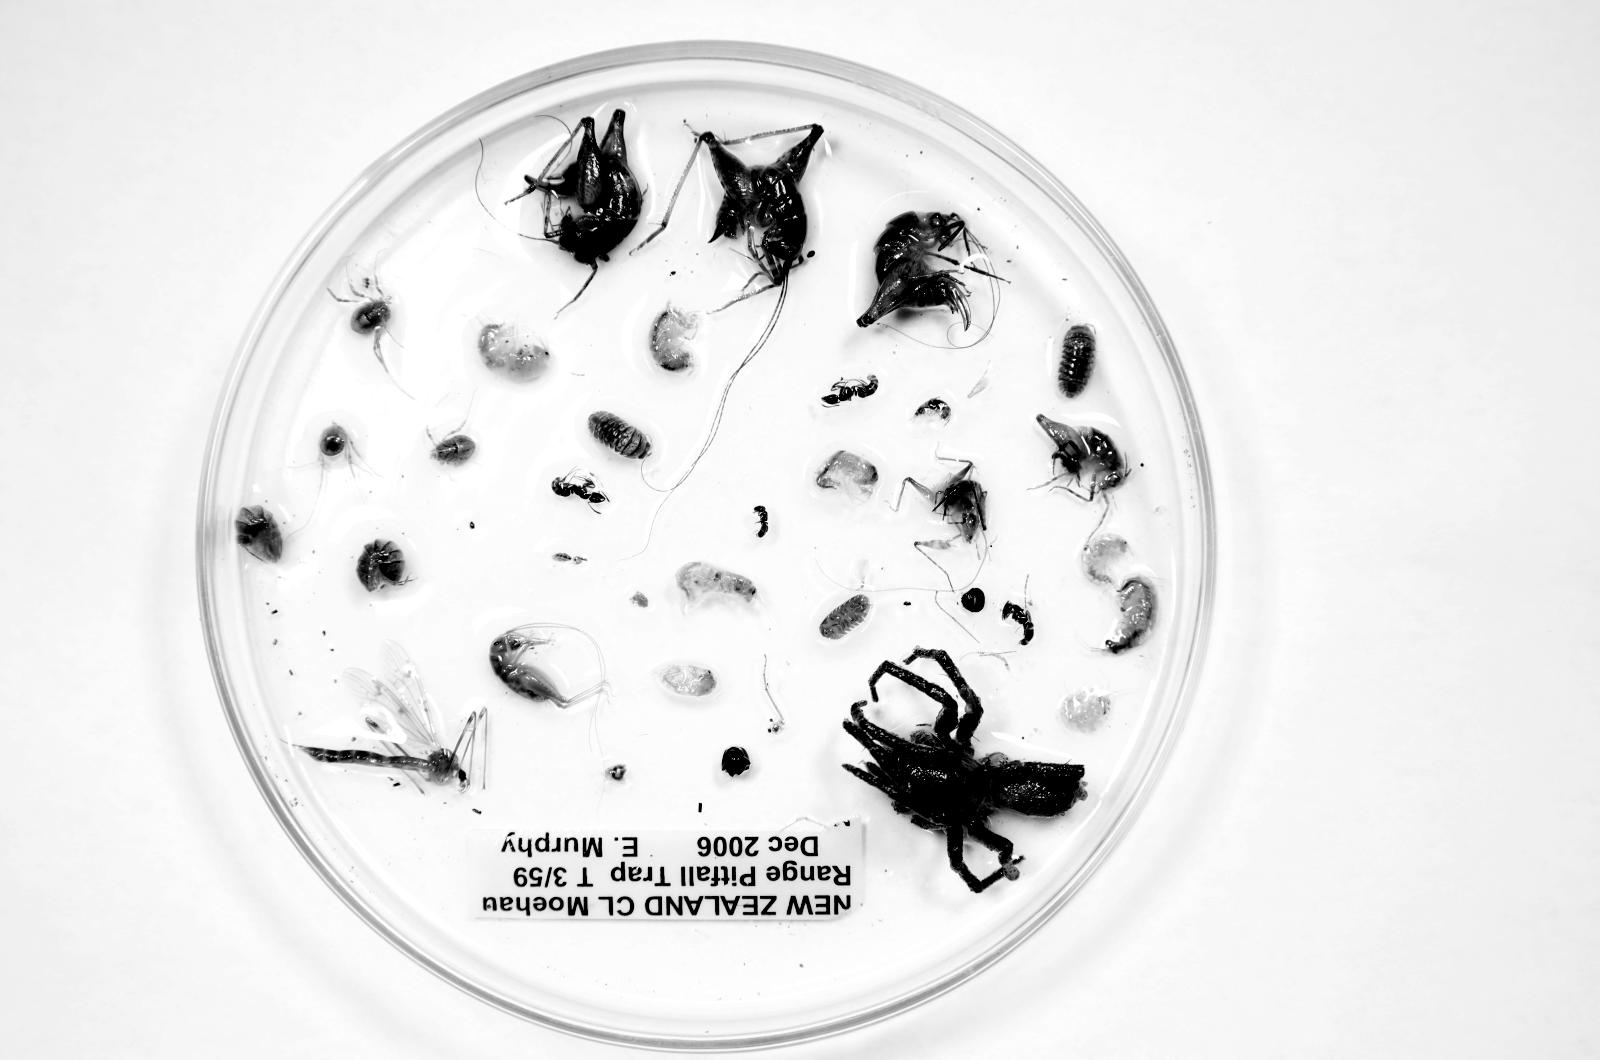amphipoda: (1103, 575, 1157, 653), (478, 323, 549, 380), (649, 302, 698, 373), (815, 451, 878, 504), (677, 562, 756, 603), (1081, 534, 1129, 586), (657, 665, 716, 697)
araneae: (843, 648, 1085, 893)
formicidae: (552, 469, 609, 506), (822, 374, 878, 406), (1001, 601, 1034, 645), (753, 505, 768, 538)
isopoda: (588, 412, 652, 459), (1058, 325, 1095, 398), (235, 506, 283, 562), (357, 540, 407, 591), (821, 594, 871, 639)
opiliones: (351, 279, 392, 369), (432, 434, 475, 464), (320, 423, 353, 457)
orthoptera: (697, 124, 823, 309), (526, 109, 642, 271), (857, 212, 996, 331), (490, 623, 609, 709), (1037, 414, 1130, 501)
tipulidae: (297, 640, 486, 790)
